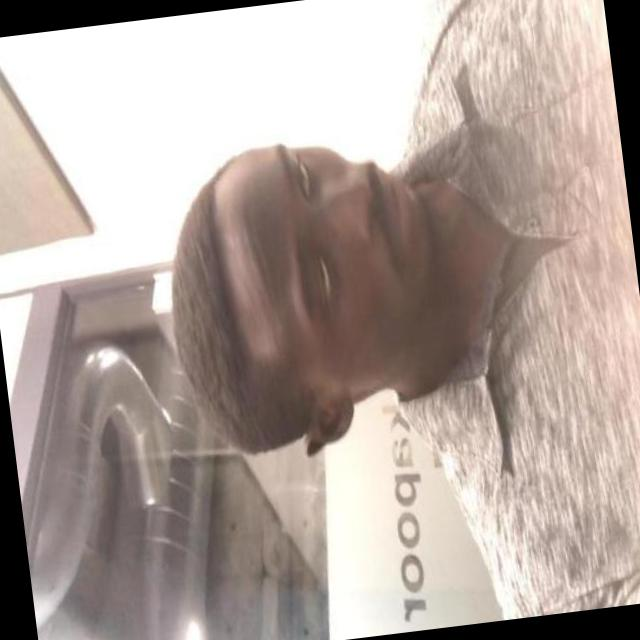bareface: (157, 77, 468, 448)
